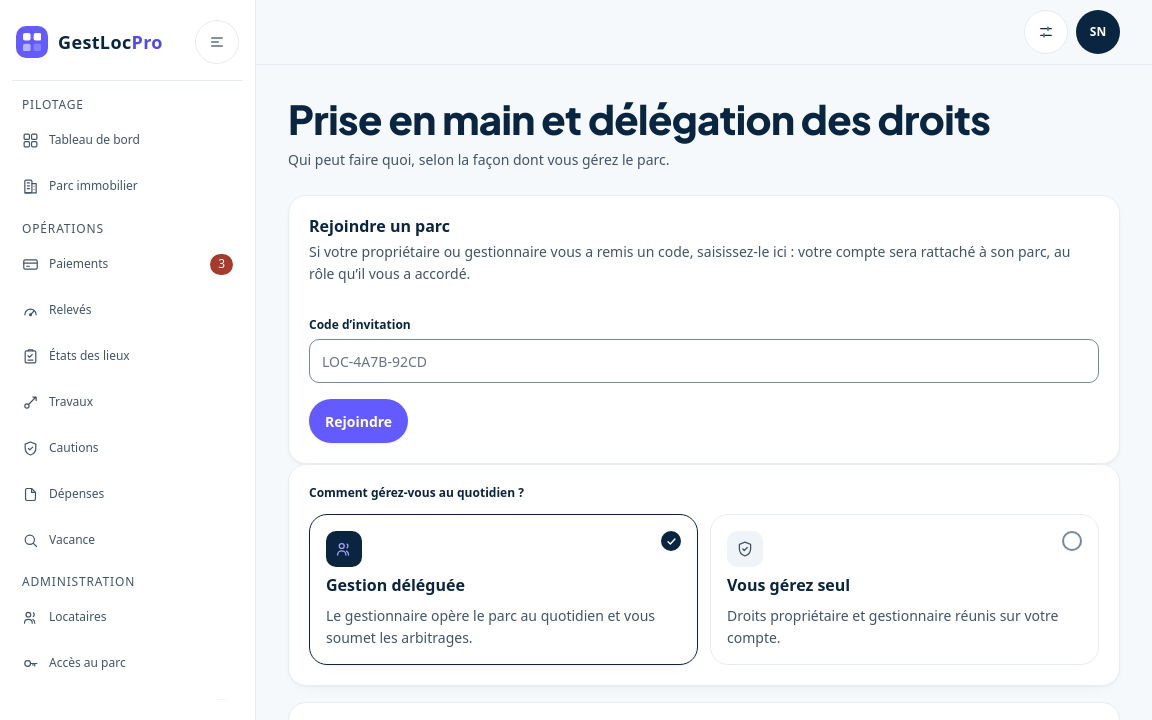
it: l’adhésion par code › ne part pas sur un champ vide
This screenshot has width=1152, height=720.
Step 1. Click the button "Rejoindre" → (359, 422), box top-left (309, 400), bottom-right (408, 444)
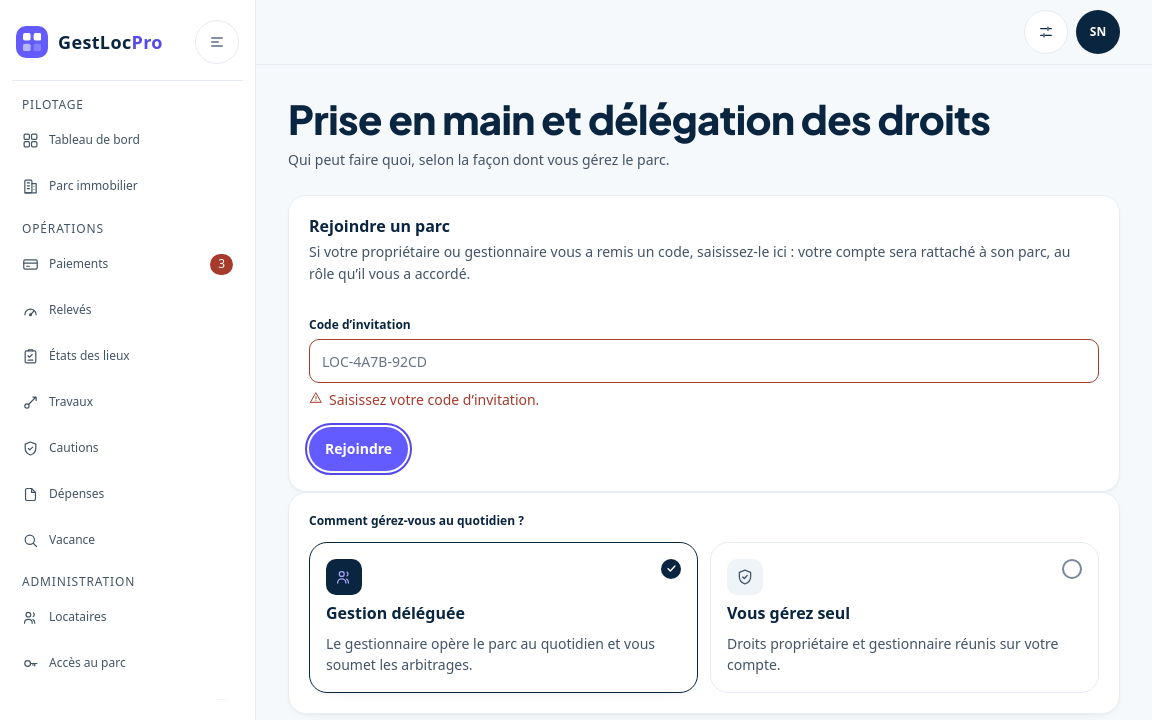
Check: the message "Saisissez votre code d’invitation." is shown, box top-left (309, 390), bottom-right (539, 410)
